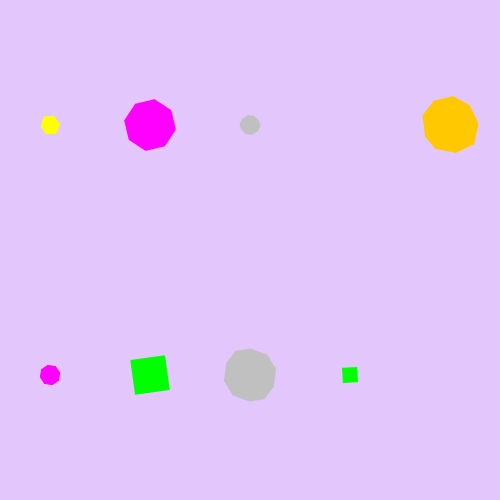decagon: (219, 346, 282, 404), (235, 111, 265, 139)
hexagon: (35, 112, 65, 138)
nonagon: (418, 94, 483, 156)
octagon: (121, 96, 180, 155), (35, 360, 65, 390)
quadrilateral: (122, 347, 178, 403), (335, 360, 365, 390)
